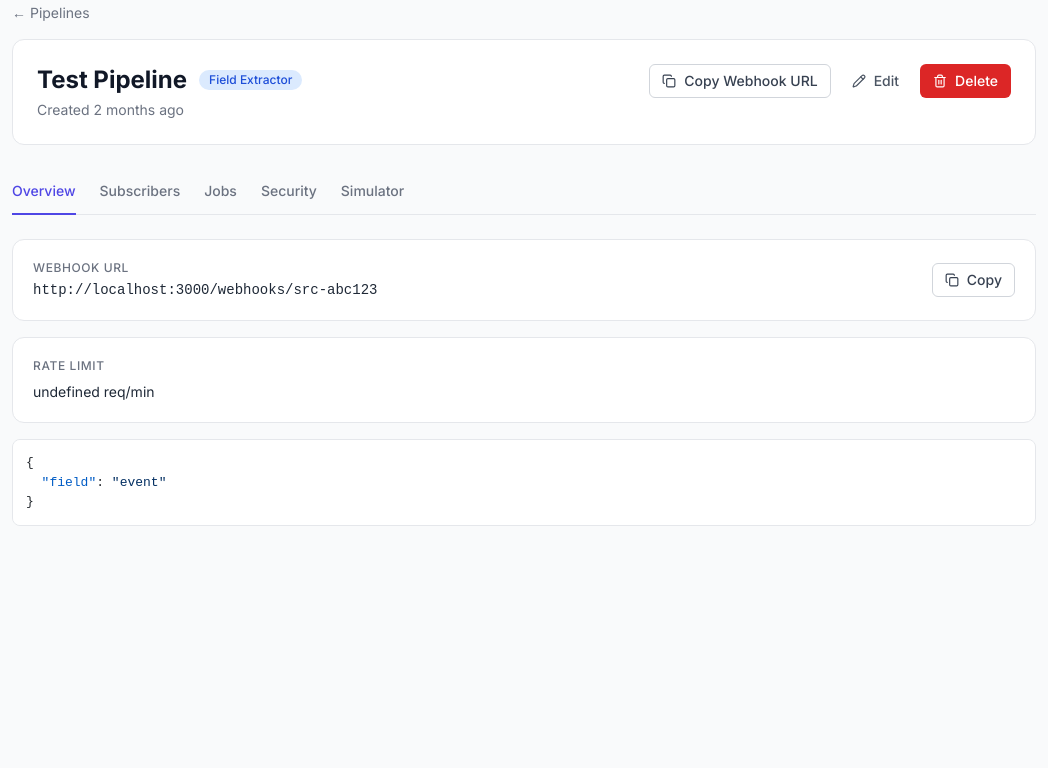
Test: PipelineDetailPage › empty name shows validation error and blocks save
Check: the heading "Test Pipeline" is shown, box [37,64,187,96]
Click the button "Edit": (875, 81) [839,64,912,98]
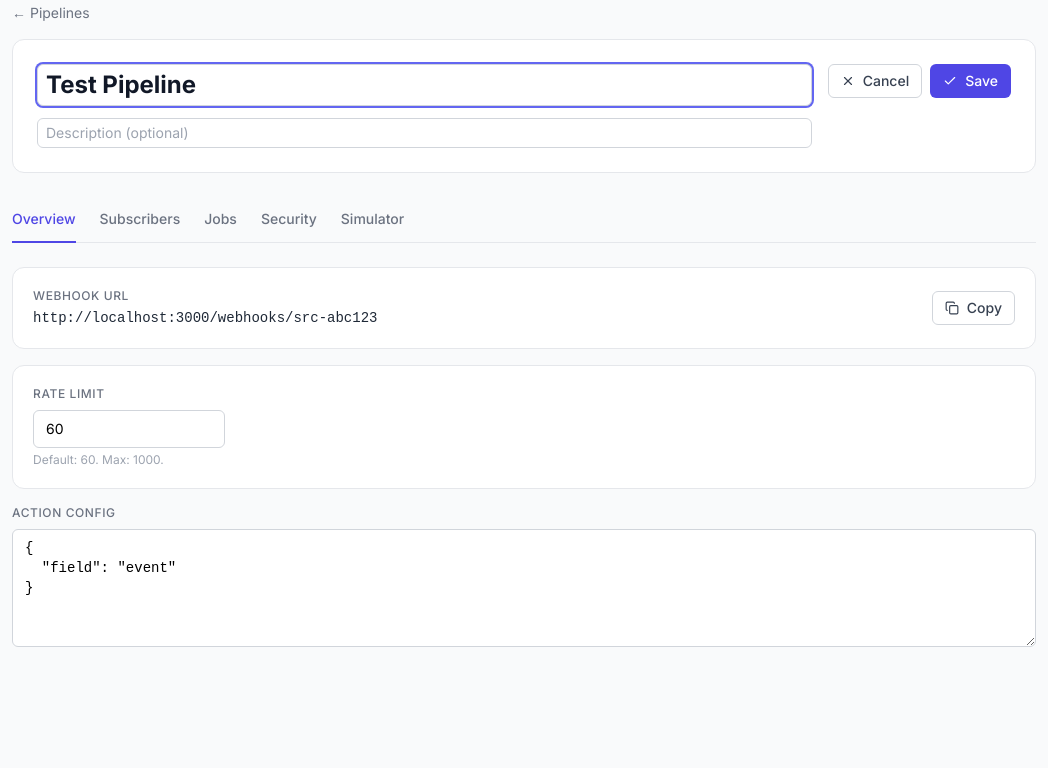
Clear the field showing "Test Pipeline": (424, 85) [37,64,812,106]
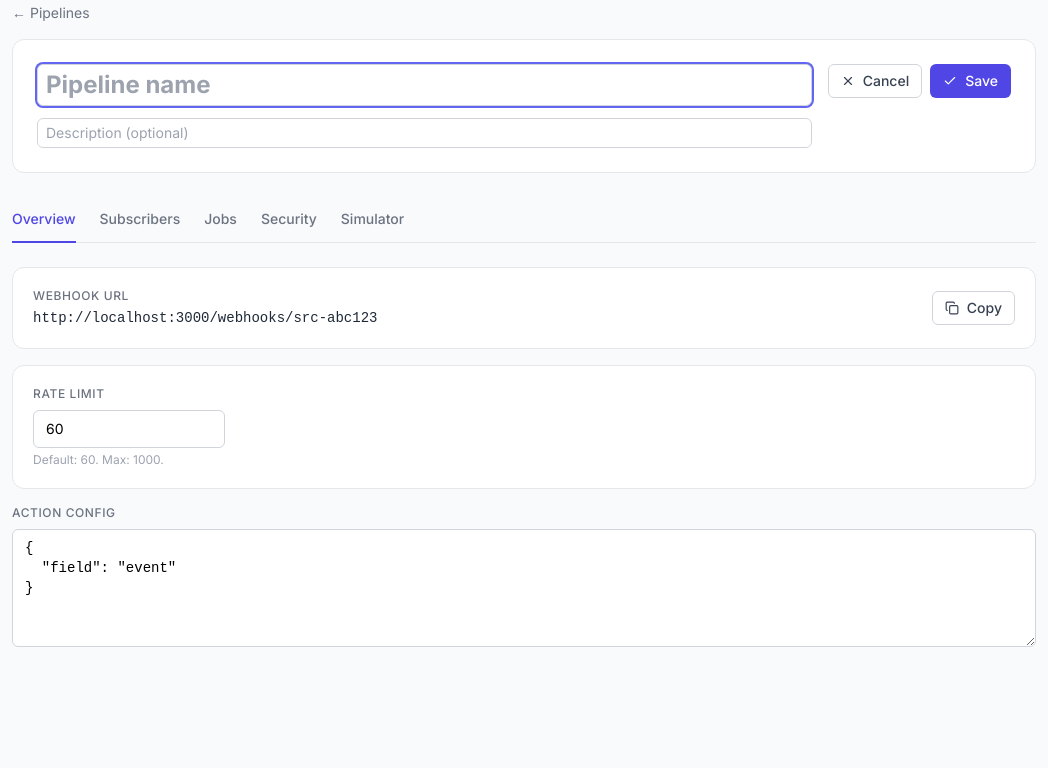
Click the button "Save": (971, 81) [930,64,1011,98]
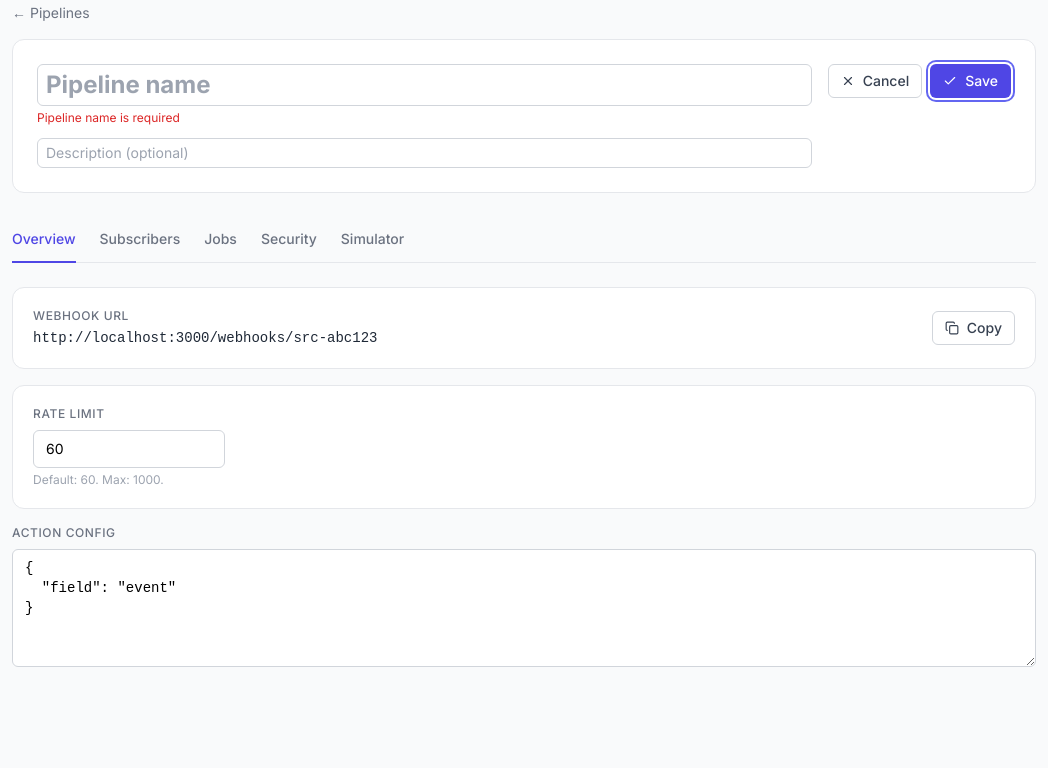
Check: the text "Pipeline name is required" is shown, box [37,110,180,125]
